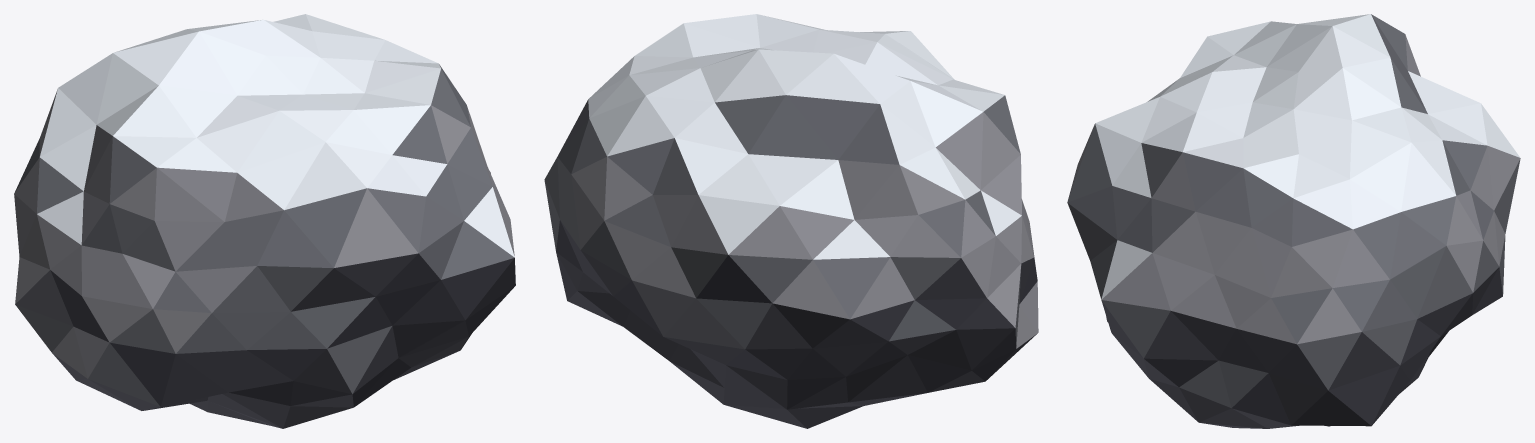
The model's file is rock_boulder.obj.
The picture shows the model from 3 angles, left to right: view 1: azimuth 30°, elevation 25°; view 2: azimuth 150°, elevation 25°; view 3: azimuth 270°, elevation 25°; orthographic projection. The views are drawn at different scales.
Visible parts, largest first — view 1: rock_boulder; view 2: rock_boulder; view 3: rock_boulder.
Boxes of the visible parts, bbox=[...] form: rock_boulder: bbox=[14, 14, 515, 428]; rock_boulder: bbox=[544, 14, 1038, 428]; rock_boulder: bbox=[1067, 14, 1520, 428].
Size of the model in its own units: 9.96 by 7.86 by 8.81.
Materials: 1 (1 with a texture image).
